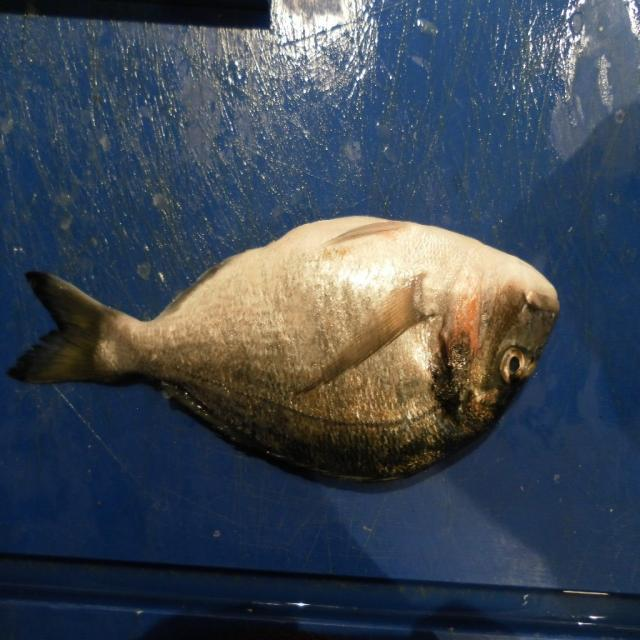Gilt-Head-Bream-c-ipura-: (7, 215, 560, 493)
